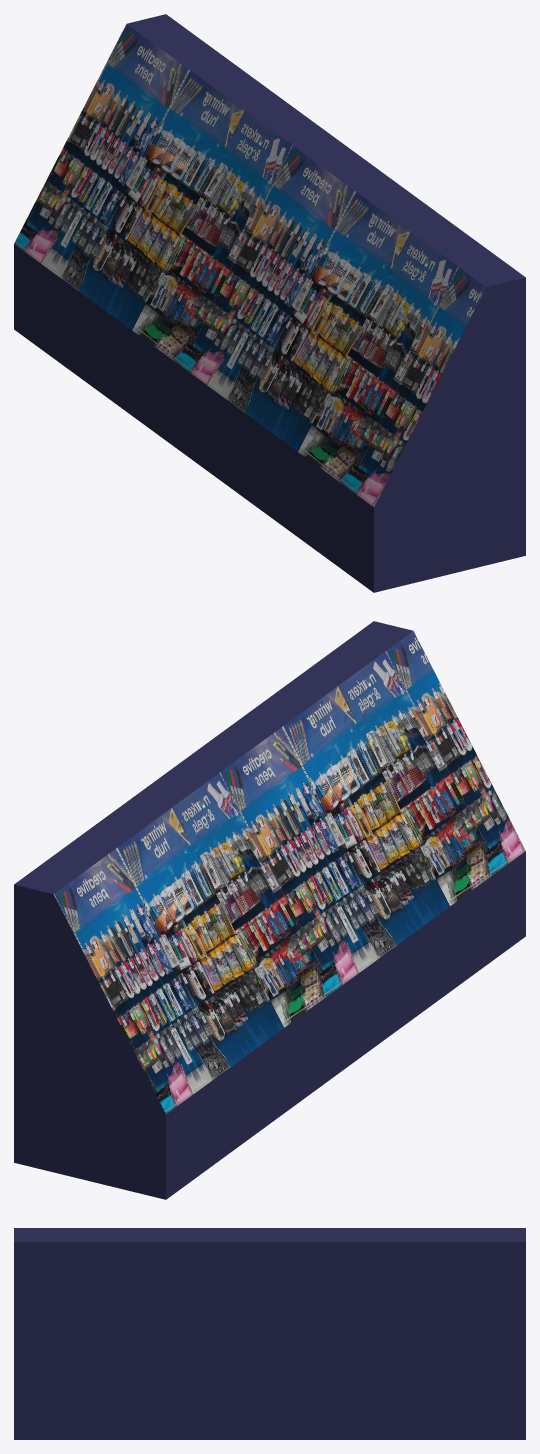
File: shelf stationary.fbx
3 renders of one model, top to bottom at view 1: azimuth 30°, elevation 25°; view 2: azimuth 150°, elevation 25°; view 3: azimuth 270°, elevation 25°, orthographic. The views are drawn at different scales.
Visible parts, largest first — view 1: Librero.063; view 2: Librero.063; view 3: Librero.063.
Part boxes in pixels (x1=…): Librero.063: x1=14, y1=14, x2=525, y2=592; Librero.063: x1=14, y1=621, x2=525, y2=1199; Librero.063: x1=14, y1=1228, x2=525, y2=1439.
Bounding box in the file's own units: 120 × 210 × 493.
